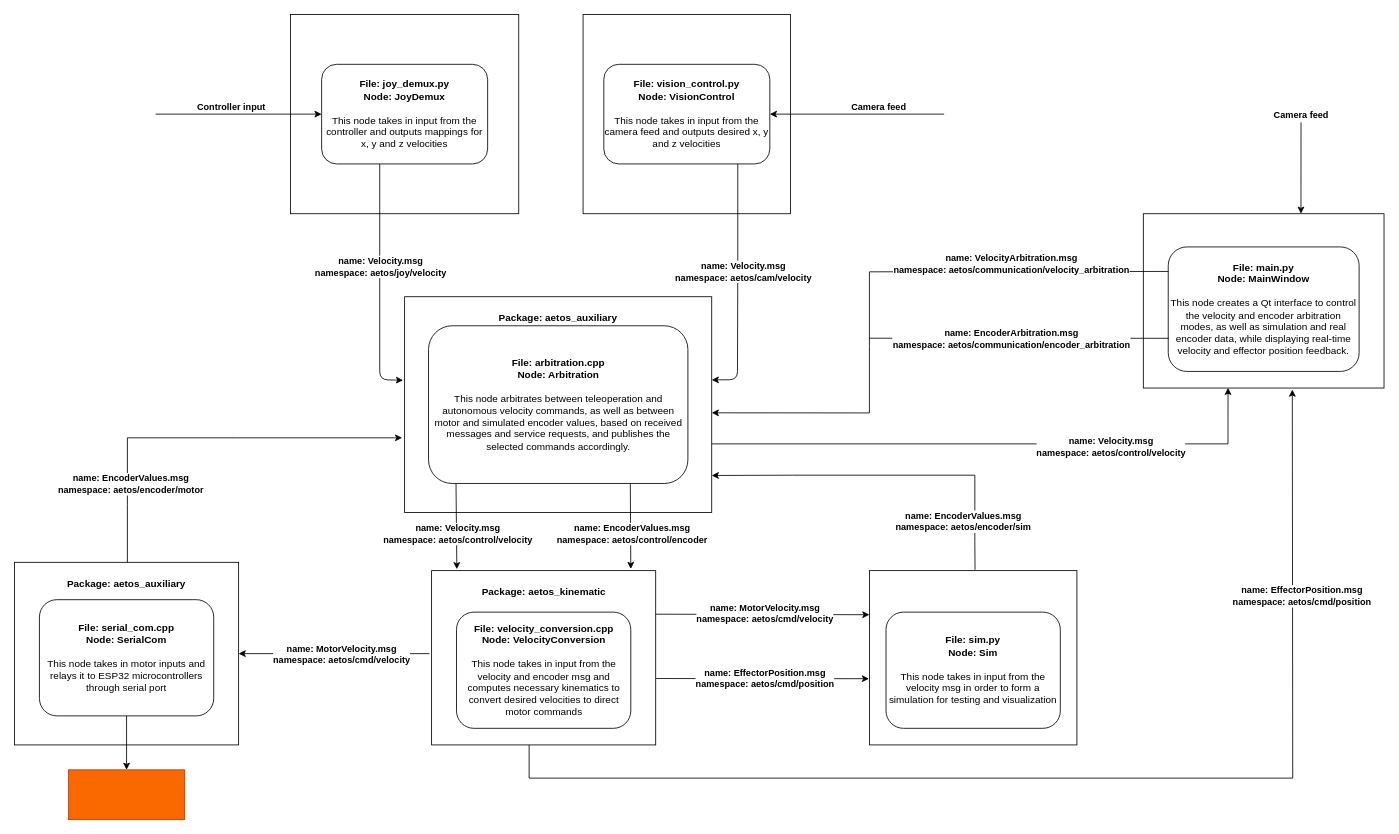
This 1399x834 diagram has some shape labels left out. Each missing label, with the box of its shape:
ESP32: (68, 769, 185, 820)
Package: aetos_cam: (582, 14, 791, 214)
Package: aetos_gui: (1142, 213, 1384, 388)
Package: aetos_joy: (290, 14, 519, 214)
Package: aetos_simulation: (869, 570, 1077, 745)
